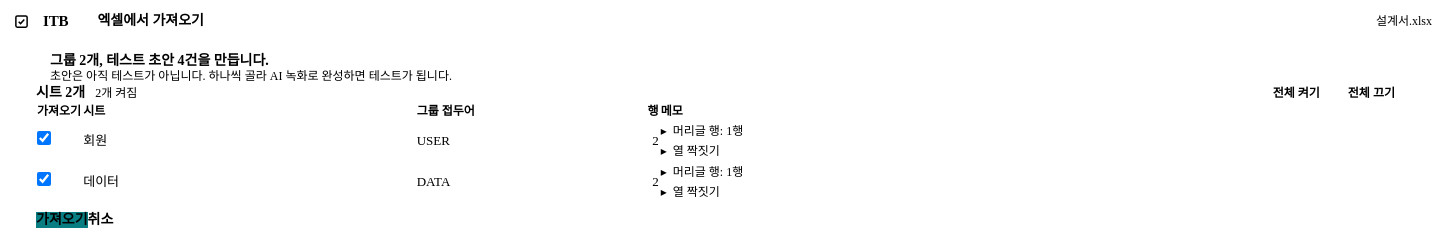
시트 200개 — 한 번에 켜고 끈다 › 전체 켜기가 되돌린다
Click the button "전체 끄기": (1371, 93) [1339,86,1404,100]
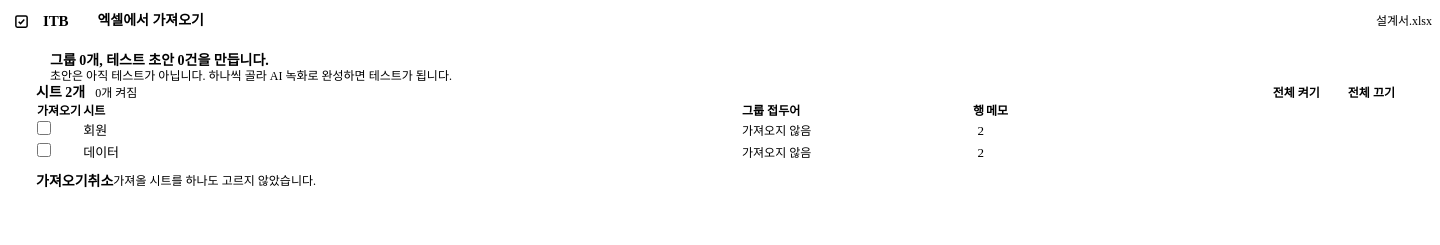
Click the button "전체 켜기": (1296, 93) [1264,86,1329,100]
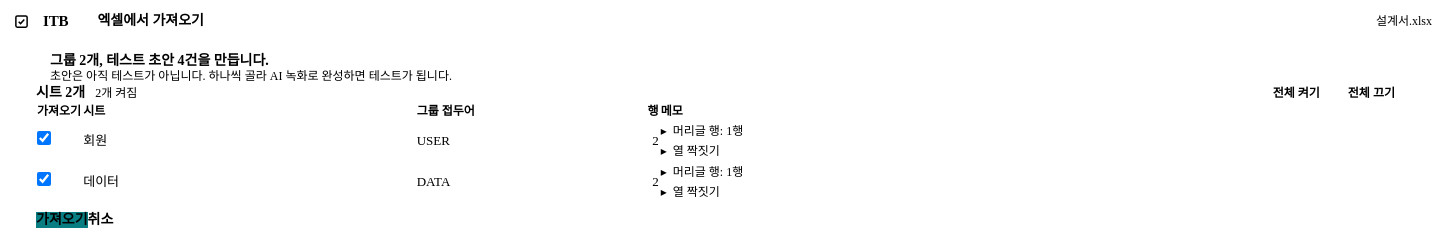
Expected: the text "2개 켜짐" is shown, [95,85,137,102]
Expected: the button "가져오기" is enabled, [36,212,88,228]
